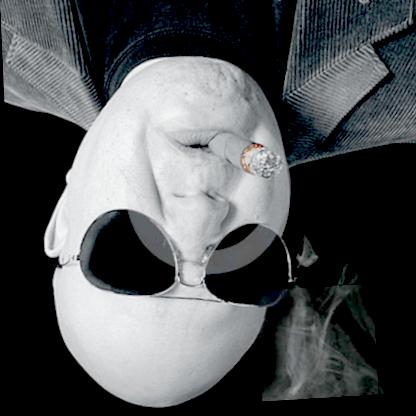smoke: (255, 288, 375, 405)
